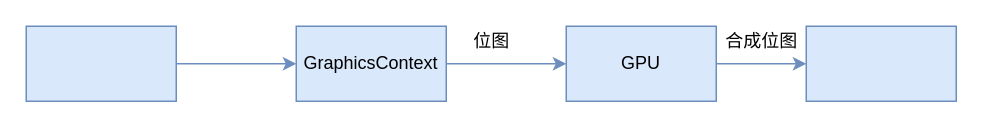
Some shapes in this 983 by 128 pixel diagram are drawn without their labels. Each missing label, with the centre of its shape:
"GraphicsLayer 合成层" goes at (x=100, y=63).
"显示图像" goes at (x=880, y=63).
